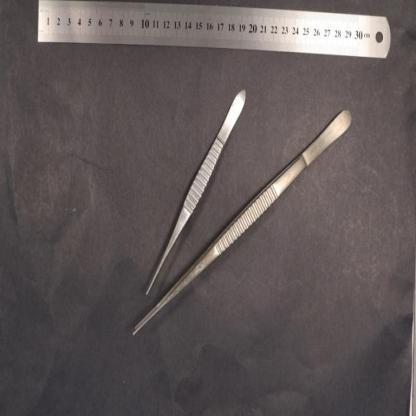DeBakey Dissector: (134, 109, 353, 336)
Gillies Toothed Dissector: (146, 88, 246, 295)
